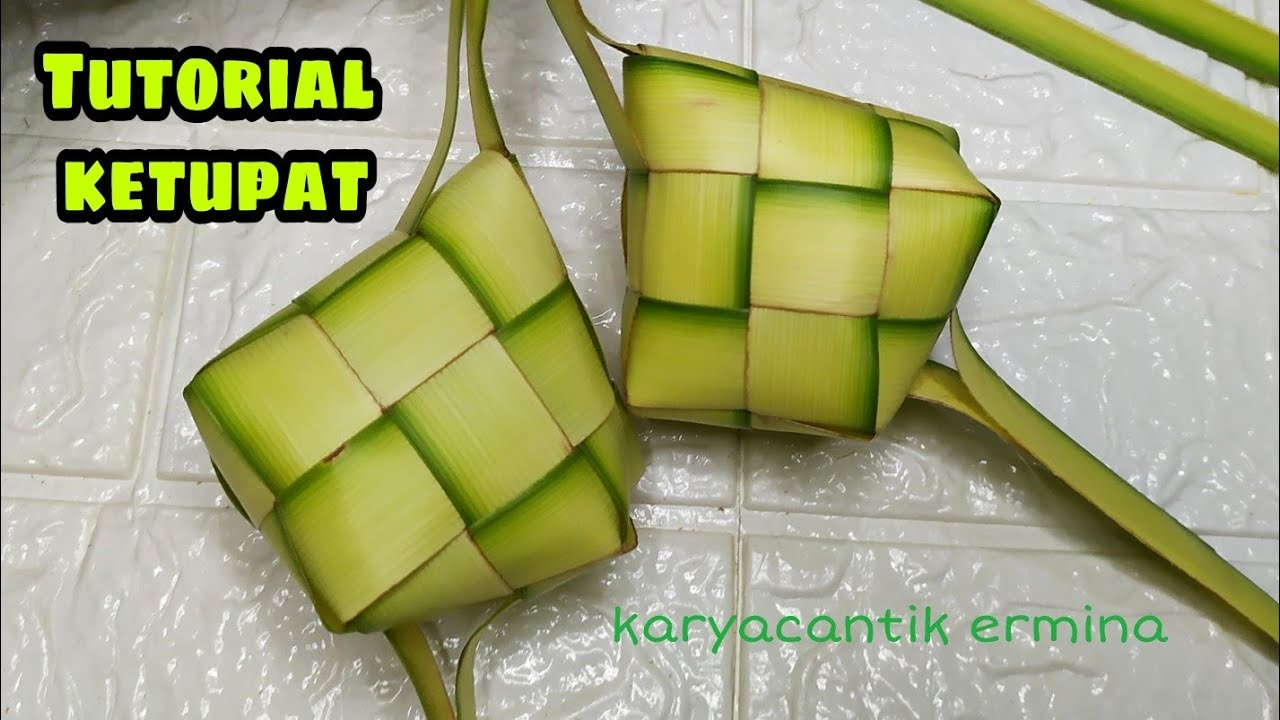ketupat: (179, 147, 646, 637), (603, 41, 1003, 443)
